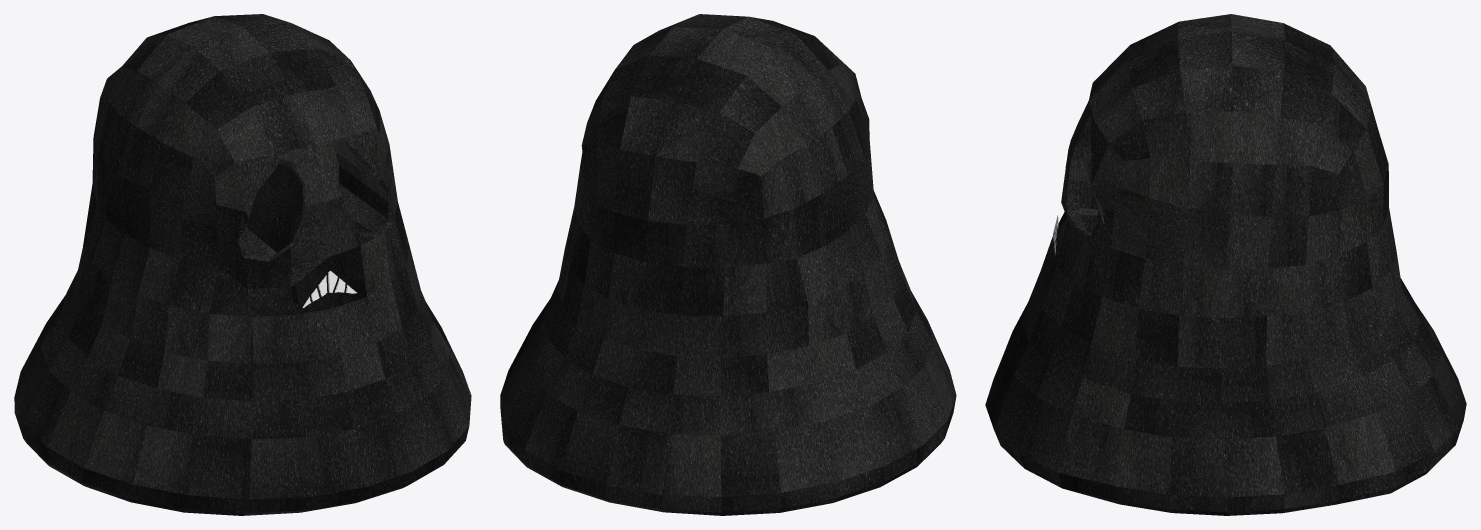
Rendered from CopA1.OS.fbx.
3 renders of one model, left to right at view 1: azimuth 30°, elevation 25°; view 2: azimuth 150°, elevation 25°; view 3: azimuth 270°, elevation 25°, orthographic.
Visible parts, largest first — view 1: Body; view 2: Body; view 3: Body.
Boxes of the visible parts, box(x1,y1,x2,y2) form: Body: box(14, 14, 471, 515); Body: box(500, 14, 956, 515); Body: box(985, 14, 1466, 515).
Bounding box in the file's own units: 315 × 305 × 333.
